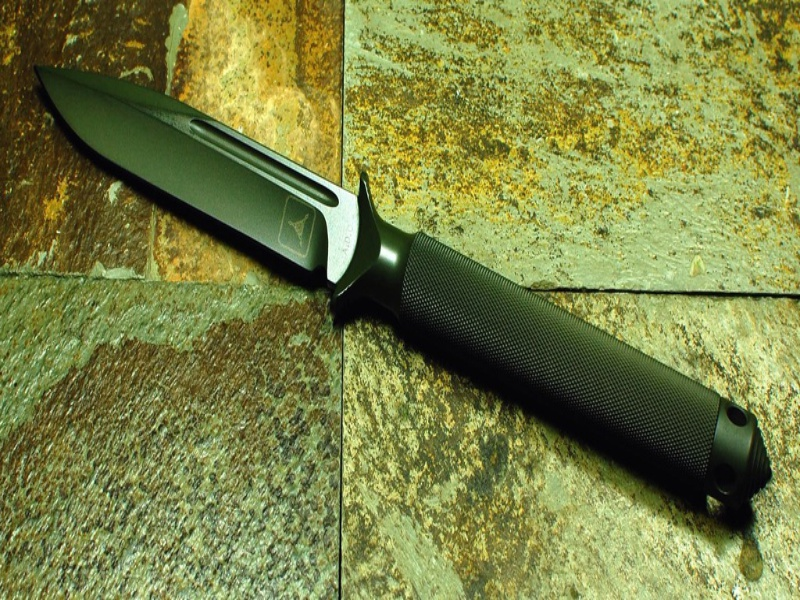knife: (274, 145, 481, 460)
